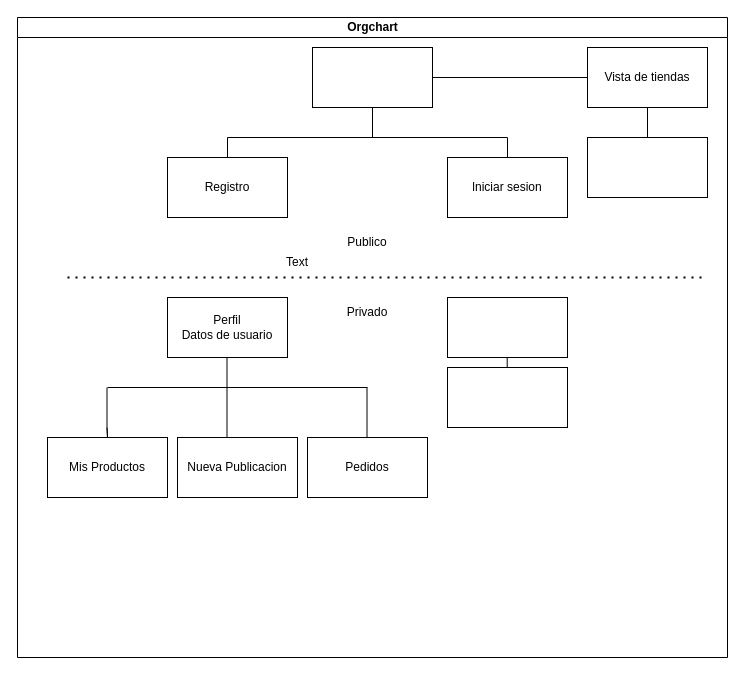
This 745x675 diagram has some shape labels left out. The box of each missing label's shape, as (x1, y1, x2, y2) in pixels:
Carrito de compras: (446, 296, 568, 358)
Detalle de producto: (586, 136, 708, 198)
Pagina Principal: (312, 46, 432, 108)
Realizar compra: (446, 366, 568, 428)
